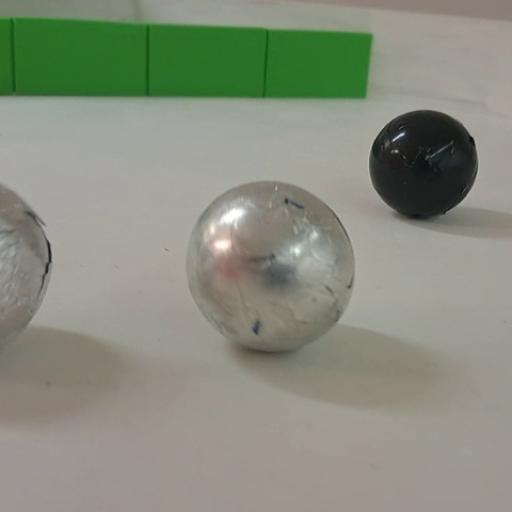alive: (185, 181, 353, 355), (0, 176, 52, 368)
dead: (369, 109, 478, 218)
